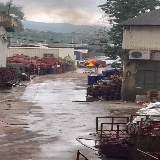fire: (86, 59, 96, 66)
